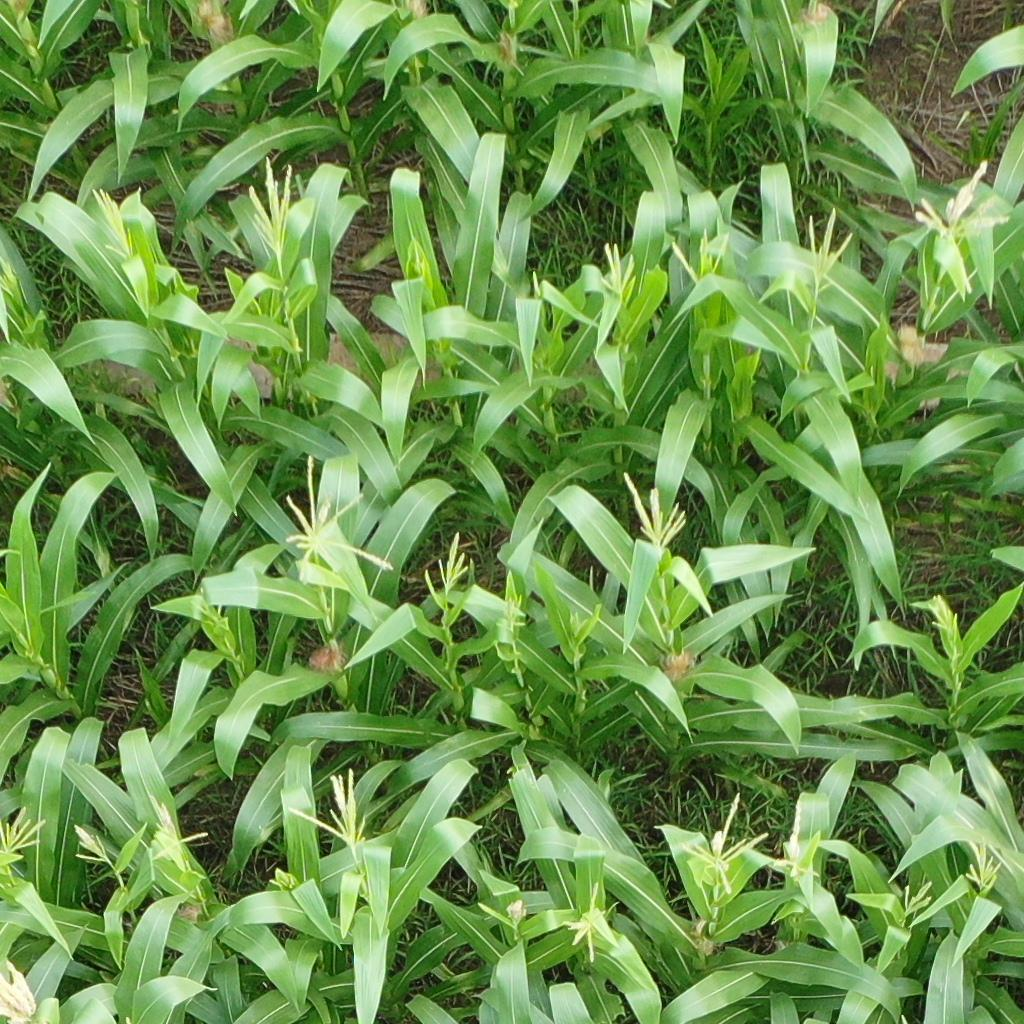Tassel: (281, 457, 394, 582), (911, 162, 1008, 294), (680, 790, 770, 896), (285, 768, 366, 852), (623, 471, 688, 553), (242, 157, 295, 251), (146, 797, 213, 866), (800, 209, 855, 290), (560, 883, 608, 964), (665, 228, 733, 284), (772, 800, 819, 879), (93, 190, 137, 260), (1, 958, 39, 1024), (1, 807, 48, 852), (599, 241, 637, 296), (438, 532, 472, 590), (965, 838, 1004, 888), (928, 595, 963, 641), (72, 823, 110, 865), (901, 881, 935, 919), (190, 595, 227, 623), (498, 598, 527, 633), (1, 257, 18, 295), (269, 866, 294, 890), (504, 898, 525, 924), (568, 611, 589, 636)
